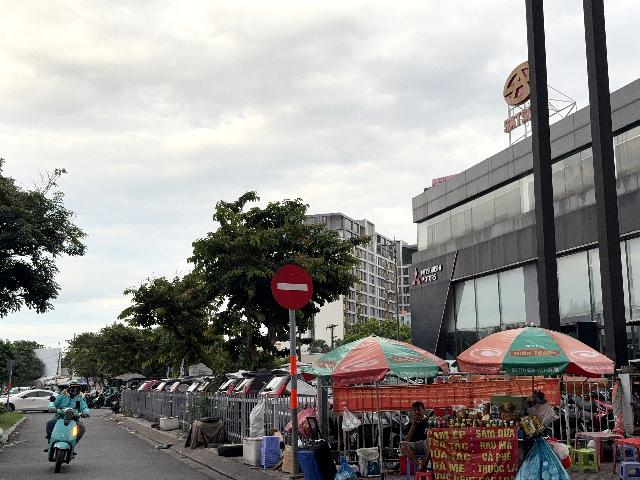cam-di-nguoc-chieu: (271, 264, 313, 310)
